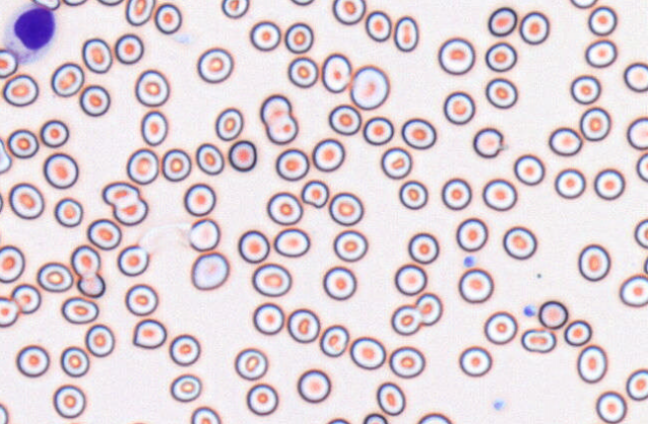MONO: (1, 4, 58, 67)
PLT: (523, 303, 538, 318), (462, 254, 477, 268), (492, 396, 506, 410)
RBC: (349, 64, 389, 110), (190, 251, 229, 290), (437, 36, 475, 75), (251, 262, 291, 297), (8, 182, 44, 219), (196, 47, 233, 83), (134, 68, 169, 106), (43, 152, 78, 189), (458, 267, 493, 303), (577, 243, 610, 281), (321, 52, 351, 93), (296, 368, 331, 403), (266, 191, 302, 225), (388, 345, 425, 378), (576, 344, 607, 383), (50, 62, 84, 97), (286, 308, 320, 343), (482, 177, 517, 211), (322, 265, 356, 300), (502, 225, 537, 259), (328, 191, 363, 225), (2, 73, 38, 106), (126, 148, 159, 184), (349, 336, 385, 369), (52, 384, 86, 418), (483, 310, 517, 344), (311, 138, 345, 172), (333, 229, 368, 262), (36, 261, 73, 292), (15, 344, 49, 377), (275, 148, 309, 181), (124, 283, 158, 316), (183, 182, 216, 216), (237, 229, 270, 263), (455, 217, 488, 251), (234, 347, 268, 380), (86, 218, 121, 250), (401, 117, 436, 149), (579, 106, 611, 141), (81, 37, 112, 73), (273, 227, 310, 257), (458, 345, 492, 377), (188, 217, 220, 251), (443, 90, 475, 124), (61, 296, 99, 324), (394, 263, 427, 295), (595, 390, 627, 423), (328, 103, 361, 135), (168, 333, 200, 366), (246, 382, 278, 415), (252, 302, 284, 335), (380, 146, 412, 179), (84, 323, 115, 357), (260, 93, 292, 125), (117, 244, 149, 276), (593, 168, 625, 200), (407, 232, 439, 264), (485, 77, 517, 109), (265, 113, 298, 144), (265, 113, 298, 144), (70, 244, 101, 277), (440, 177, 471, 210), (484, 41, 517, 72), (548, 126, 582, 156), (519, 10, 549, 44), (112, 197, 148, 225), (140, 110, 168, 146), (513, 153, 544, 185), (390, 304, 422, 335), (79, 84, 110, 116), (249, 20, 281, 51), (287, 56, 318, 88), (554, 167, 585, 199), (319, 324, 349, 357), (161, 148, 191, 181), (584, 38, 617, 68), (214, 107, 243, 141), (376, 381, 405, 415), (102, 181, 139, 207), (10, 283, 41, 314), (7, 128, 39, 158), (195, 142, 224, 175), (619, 273, 647, 307), (0, 244, 25, 282), (393, 15, 419, 51), (520, 327, 556, 353), (587, 5, 617, 36), (570, 74, 601, 104), (60, 345, 89, 377), (169, 373, 201, 402), (227, 139, 256, 171), (284, 21, 313, 53), (414, 292, 442, 325), (487, 6, 517, 36), (114, 33, 143, 64), (537, 300, 568, 329), (362, 116, 393, 145), (154, 2, 182, 34), (54, 197, 83, 227), (398, 180, 428, 209), (39, 119, 69, 147), (332, 0, 365, 25), (365, 10, 391, 41), (563, 319, 592, 346), (125, 0, 155, 26), (76, 272, 105, 298), (623, 61, 647, 92), (625, 368, 647, 401), (626, 116, 647, 150), (0, 295, 19, 327), (190, 406, 221, 423), (0, 48, 17, 78), (221, 0, 249, 18), (416, 412, 453, 423), (634, 218, 647, 248), (636, 152, 647, 182), (31, 0, 60, 10), (362, 412, 388, 423), (569, 0, 598, 8), (0, 402, 8, 423), (96, 0, 123, 6), (324, 417, 351, 423), (289, 0, 315, 6), (62, 0, 87, 6), (124, 420, 151, 424), (643, 254, 648, 275), (0, 189, 4, 215), (0, 223, 2, 247)
Schistocyte: (132, 318, 167, 350), (473, 127, 506, 159), (300, 180, 329, 209), (0, 136, 12, 175)
